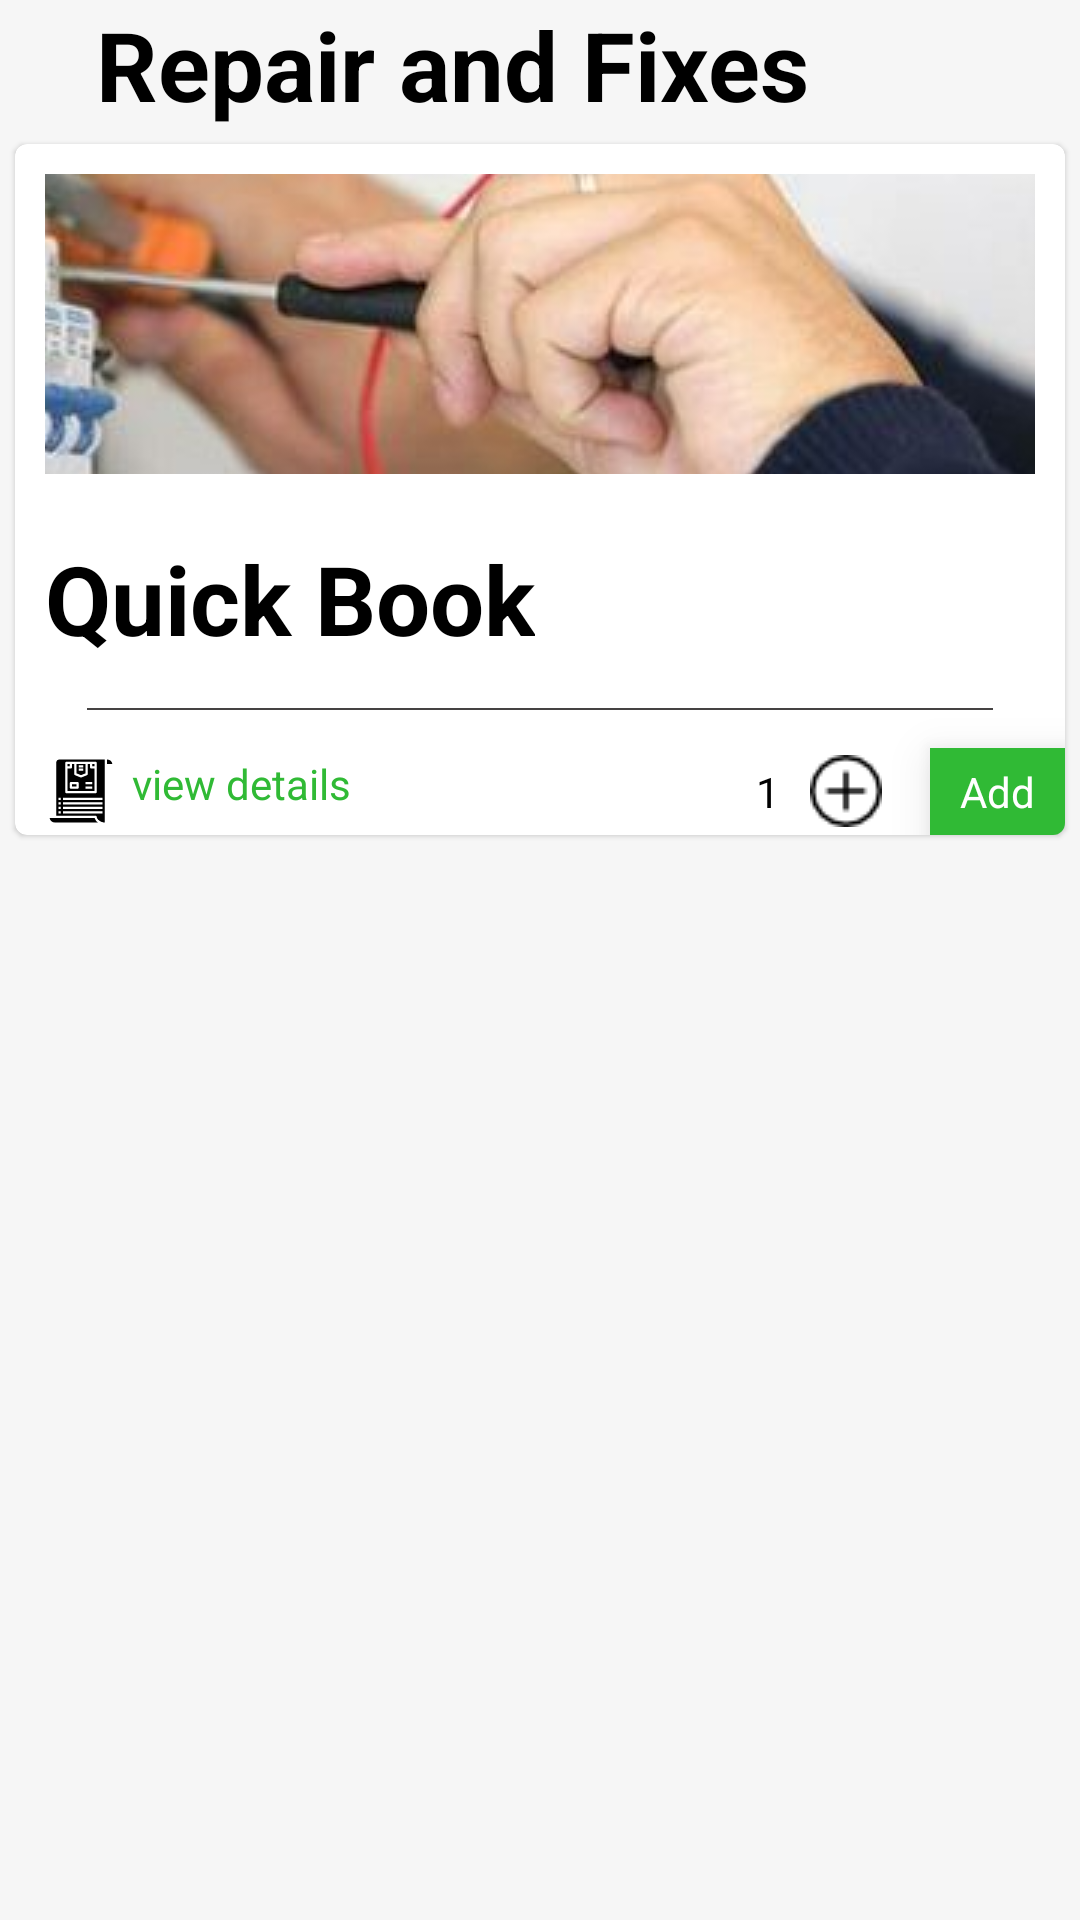

Icon click points for this 1080x1920 phone screenshot, format (x=x, y=y):
plus: (x=846, y=791)
